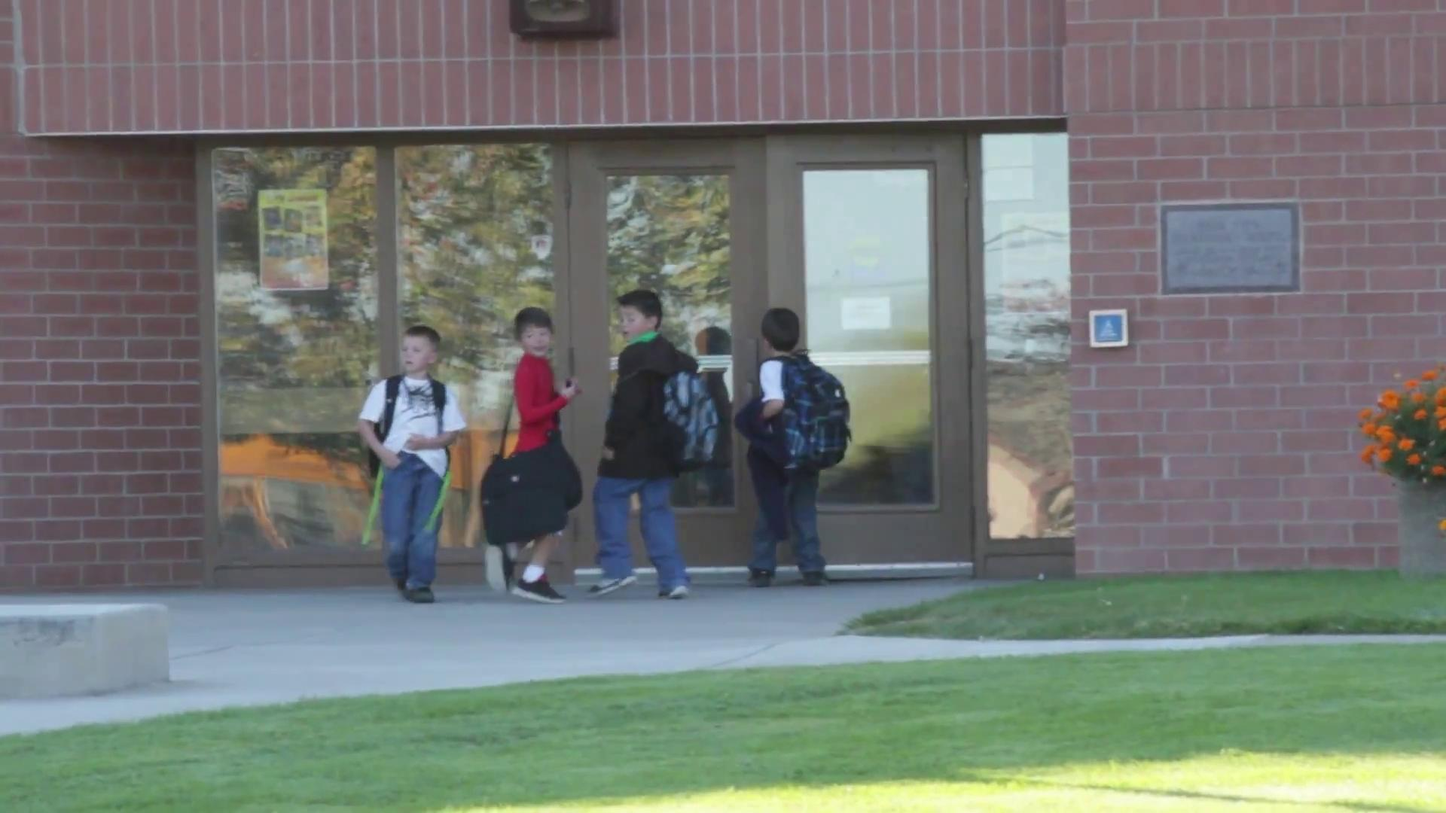victim: (714, 298, 853, 591), (589, 288, 712, 606), (477, 305, 590, 610), (352, 320, 467, 609)
